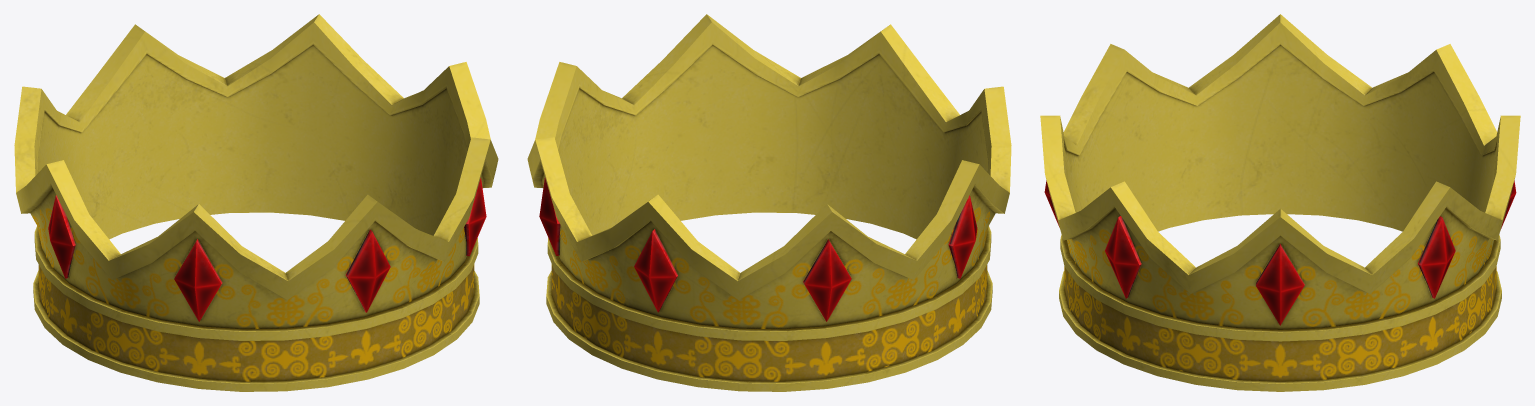
File: au-queenies-crown.glb
The picture shows the model from 3 angles, left to right: view 1: azimuth 30°, elevation 25°; view 2: azimuth 150°, elevation 25°; view 3: azimuth 270°, elevation 25°; orthographic projection.
Parts seen in each view (by area): view 1: Circle_Crown_0_4; view 2: Circle_Crown_0_4; view 3: Circle_Crown_0_4.
Boxes of the visible parts, <box> form: Circle_Crown_0_4: <box>14,14,498,391</box>; Circle_Crown_0_4: <box>527,14,1011,391</box>; Circle_Crown_0_4: <box>1040,14,1520,391</box>.
Bounding box in the file's own units: 2 × 0.8552 × 2.
Materials: 1 (1 with a texture image).
